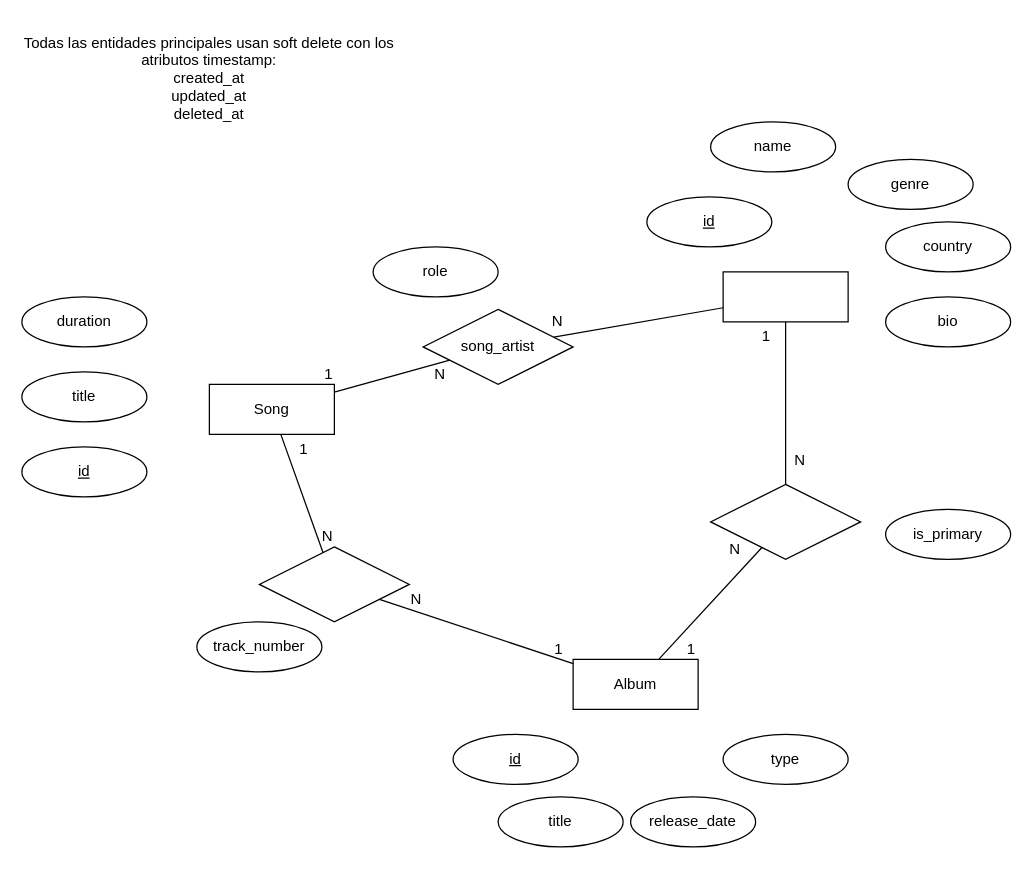
The diagram is 1033 pixels wide and 869 high, and some of its shapes have lost their labels. The centre of each missing label's shape, as x and y in pixels:
"album_artis" goes at (785,521).
"Artist" goes at (785,296).
"Track" goes at (333,584).
